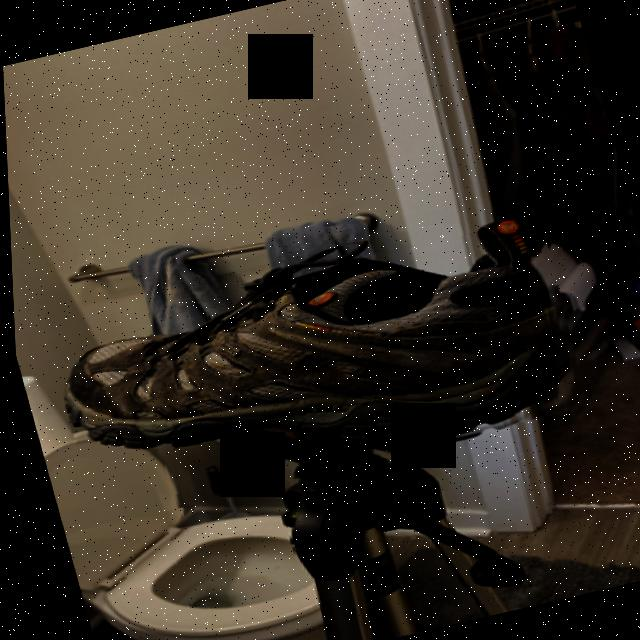shoe: (34, 200, 595, 528)
